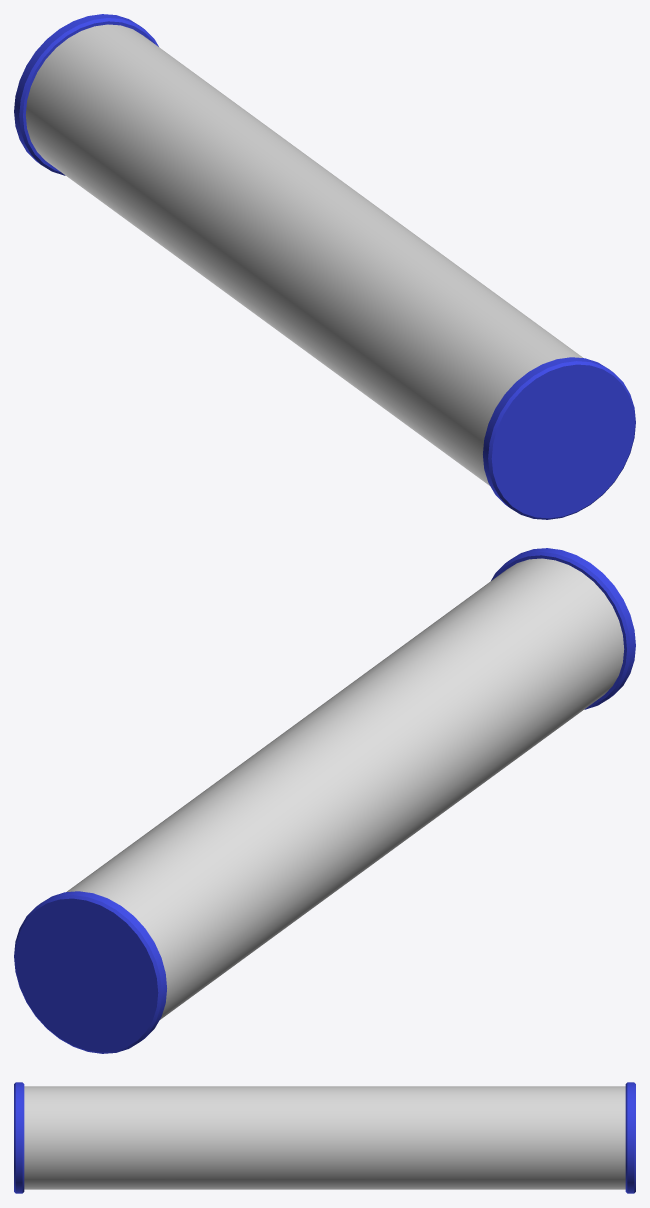
File: Pipe.glb
The picture shows the model from 3 angles, top to bottom: view 1: azimuth 30°, elevation 25°; view 2: azimuth 150°, elevation 25°; view 3: azimuth 270°, elevation 25°; orthographic projection. The views are drawn at different scales.
Parts seen in each view (by area): view 1: Cylinder; view 2: Cylinder; view 3: Cylinder.
Part boxes in pixels (x1,y1,x2,y2): Cylinder: [14, 14, 635, 519]; Cylinder: [14, 548, 635, 1053]; Cylinder: [14, 1082, 635, 1193].
Bounding box in the file's own units: 1.07 × 1.07 × 6.
